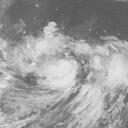cyclone: (22, 30, 111, 111)
